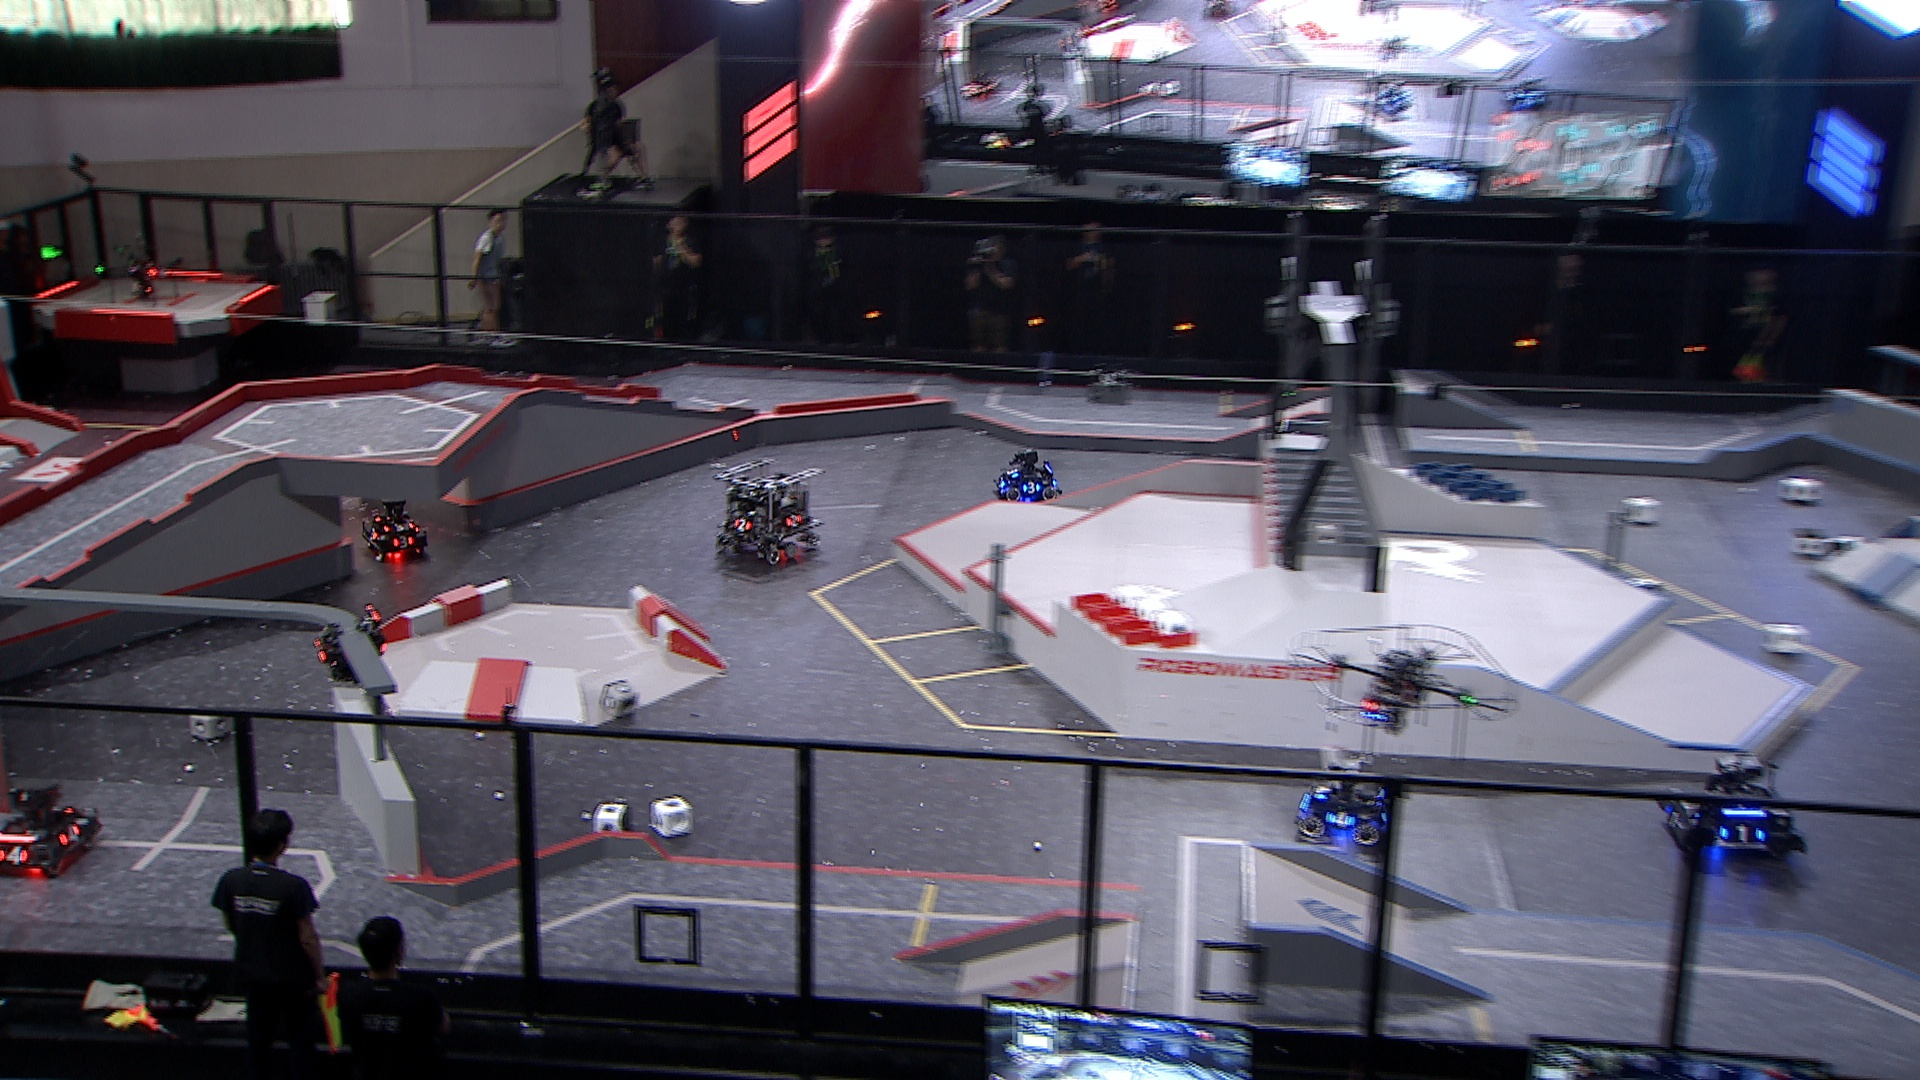armor: (1718, 820, 1766, 847), (1662, 799, 1685, 837), (1323, 808, 1358, 832), (58, 822, 80, 849), (313, 632, 330, 666), (380, 518, 417, 533), (1021, 480, 1044, 498), (1004, 460, 1022, 483), (392, 533, 417, 549), (1309, 782, 1332, 799), (731, 517, 756, 531), (785, 514, 804, 531), (363, 526, 380, 542)
car: (1656, 750, 1809, 866), (707, 455, 828, 570), (1291, 760, 1403, 851), (359, 495, 427, 562), (993, 446, 1063, 502)
ignore: (1361, 73, 1415, 117), (1505, 76, 1549, 113), (957, 69, 1000, 102), (1204, 0, 1232, 20)
watcher: (311, 604, 394, 688)
